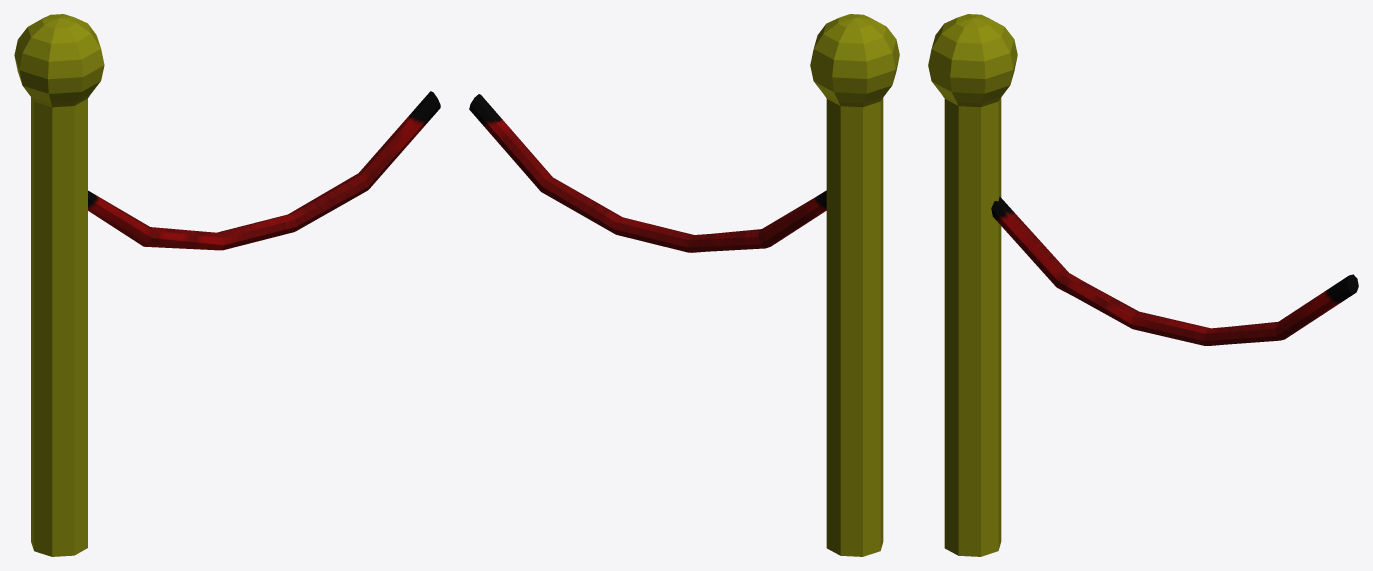
Rendered from Railing2.fbx.
3 views of the same model, side by side, from view 1: azimuth 30°, elevation 25°; view 2: azimuth 150°, elevation 25°; view 3: azimuth 330°, elevation 25° (orthographic).
Parts seen in each view (by area): view 1: polySurface48; view 2: polySurface48; view 3: polySurface48.
Boxes of the visible parts, box(x1,y1,x2,y2) form: polySurface48: box(14, 14, 440, 556); polySurface48: box(469, 14, 899, 556); polySurface48: box(928, 14, 1358, 556).
Bounding box in the file's own units: 245 × 292 × 46.78.
Materials: 1 (1 with a texture image).
